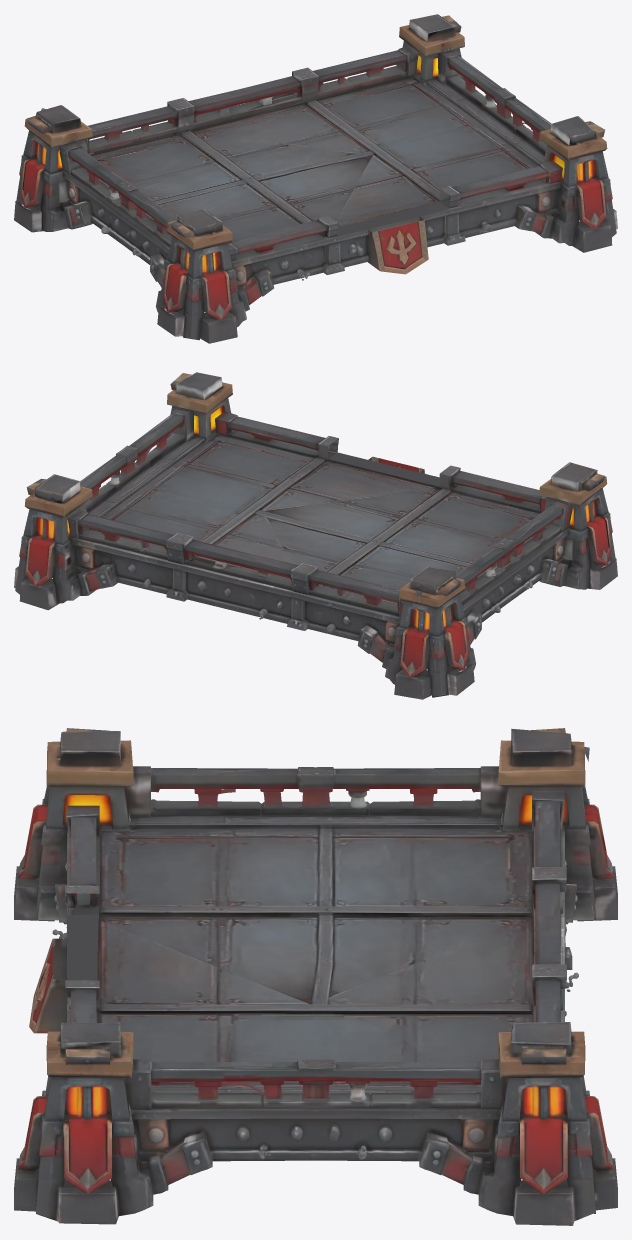
Rendered from SM_Tripo_InfernoIronBridgeGapped.glb.
3 renders of one model, top to bottom at view 1: azimuth 30°, elevation 25°; view 2: azimuth 150°, elevation 25°; view 3: azimuth 270°, elevation 25°, orthographic. The views are drawn at different scales.
Visible parts, largest first — view 1: SM_Tripo_InfernoIronBridgeGapped_LOD0; view 2: SM_Tripo_InfernoIronBridgeGapped_LOD0; view 3: SM_Tripo_InfernoIronBridgeGapped_LOD0.
Boxes of the visible parts, x1,y1,x2,y2 form: SM_Tripo_InfernoIronBridgeGapped_LOD0: [14, 14, 617, 343]; SM_Tripo_InfernoIronBridgeGapped_LOD0: [14, 372, 617, 699]; SM_Tripo_InfernoIronBridgeGapped_LOD0: [14, 728, 617, 1225].
Size of the model in its own units: 10.87 by 2.5 by 8.05.
Materials: 1 (1 with a texture image).
